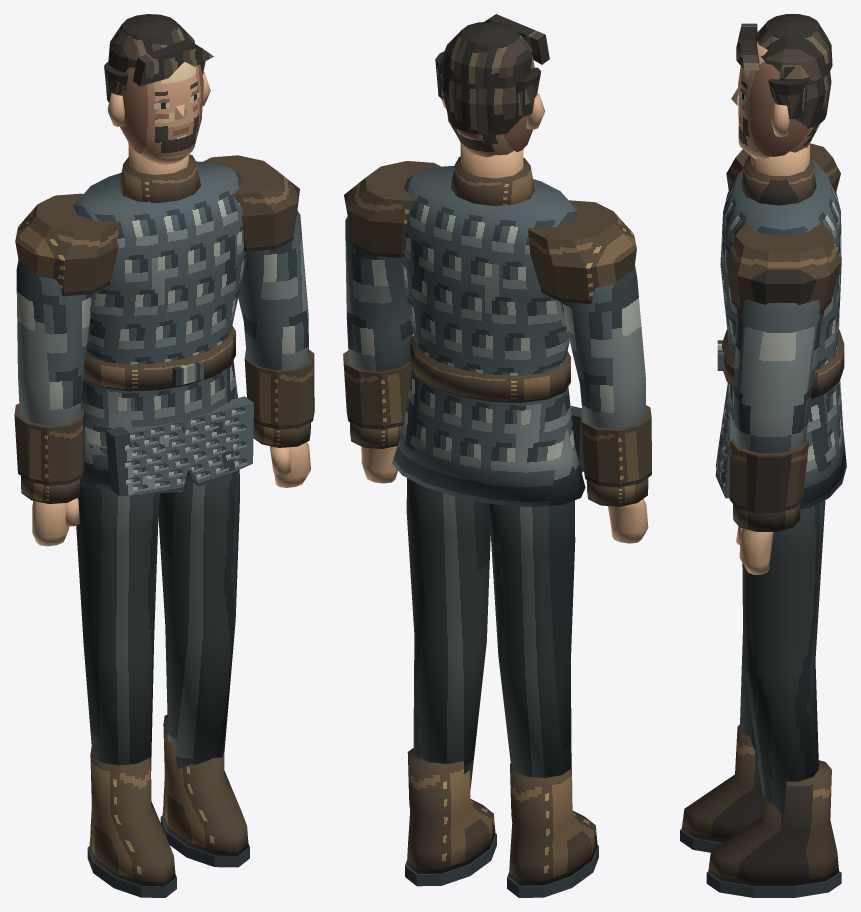
The model's file is armor-crafted.glb.
3 views of the same model, side by side, from view 1: azimuth 30°, elevation 25°; view 2: azimuth 150°, elevation 25°; view 3: azimuth 270°, elevation 25° (orthographic). The views are drawn at different scales.
Visible parts, largest first — view 1: armor-crafted runtime mesh; view 2: armor-crafted runtime mesh; view 3: armor-crafted runtime mesh.
Boxes of the visible parts, x1,y1,x2,y2 form: armor-crafted runtime mesh: (14,14,314,897); armor-crafted runtime mesh: (343,14,651,897); armor-crafted runtime mesh: (680,14,846,897).
Bounding box in the file's own units: 0.6623 × 1.82 × 0.3273.
Materials: 1 (1 with a texture image).
